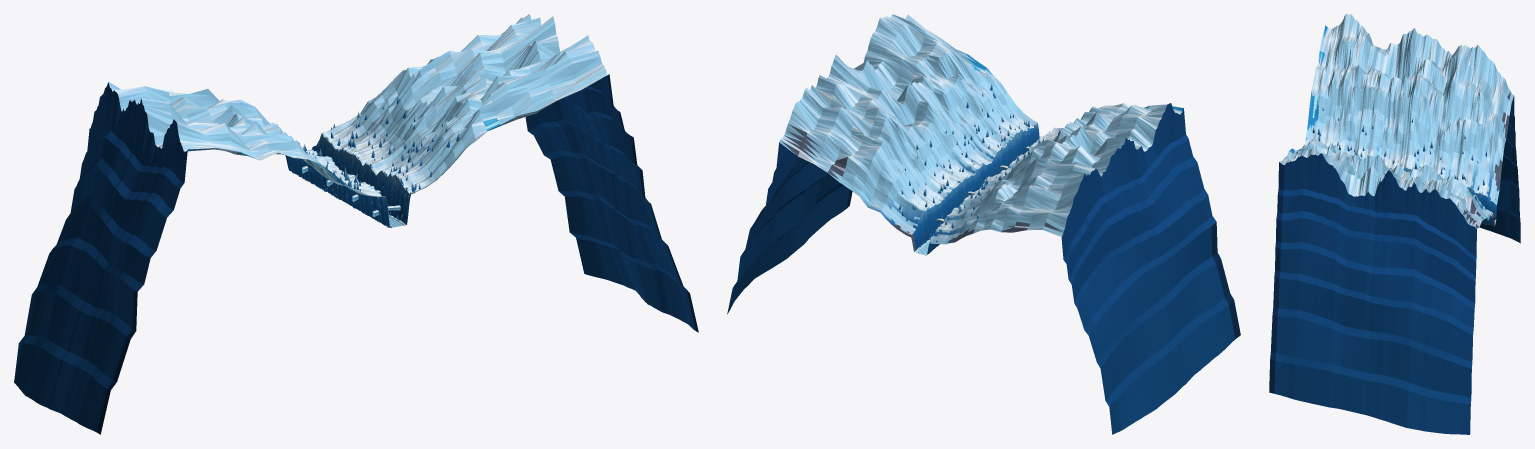
3 views of the same model, side by side, from view 1: azimuth 30°, elevation 25°; view 2: azimuth 150°, elevation 25°; view 3: azimuth 270°, elevation 25° (orthographic). The views are drawn at different scales.
Visible parts, largest first — view 1: S03_Terrain_L_2670, S03_Terrain_R_2670, S03_Terrain_R_2280, S03_Terrain_L_2280, S03_Terrain_L_1890, S03_Terrain_R_1890, S03_Shards_01; view 2: S03_Terrain_R_1890, S03_Terrain_L_1890, S03_Terrain_R_2280, S03_Terrain_R_2670, S03_Terrain_L_2280, S03_Terrain_L_2670, S03_Shards_01; view 3: S03_Terrain_L_1890, S03_Terrain_L_2670, S03_Terrain_L_2280, S03_Terrain_R_1890, S03_Terrain_R_2280, S03_Terrain_R_2670, S03_Shards_01.
Part boxes in pixels (x1,y1,x2,y2): S03_Terrain_L_2670: (377,35,698,332); S03_Terrain_R_2670: (65,119,392,434); S03_Terrain_R_2280: (29,97,355,415); S03_Terrain_L_2280: (343,16,665,313); S03_Terrain_L_1890: (311,14,637,292); S03_Terrain_R_1890: (14,82,322,397); S03_Shards_01: (292,96,459,225); S03_Terrain_R_1890: (925,158,1160,434); S03_Terrain_L_1890: (727,75,954,314); S03_Terrain_R_2280: (973,126,1200,405); S03_Terrain_R_2670: (1014,103,1240,369); S03_Terrain_L_2280: (762,54,996,273); S03_Terrain_L_2670: (807,14,1039,240); S03_Shards_01: (898,84,1065,251); S03_Terrain_L_1890: (1397,165,1494,434); S03_Terrain_L_2670: (1269,139,1353,407); S03_Terrain_L_2280: (1333,154,1415,424); S03_Terrain_R_1890: (1434,45,1520,243); S03_Terrain_R_2280: (1370,28,1453,171); S03_Terrain_R_2670: (1305,14,1389,158); S03_Shards_01: (1312,105,1487,224).
Size of the model in its own units: 2910 by 1605 by 1481.
1 material, 1 textured.
